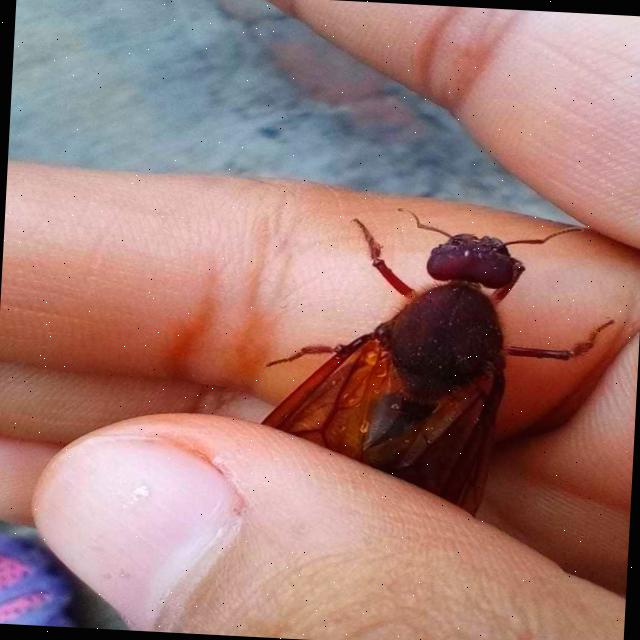Alive-Female-Alate: (200, 197, 620, 640)
